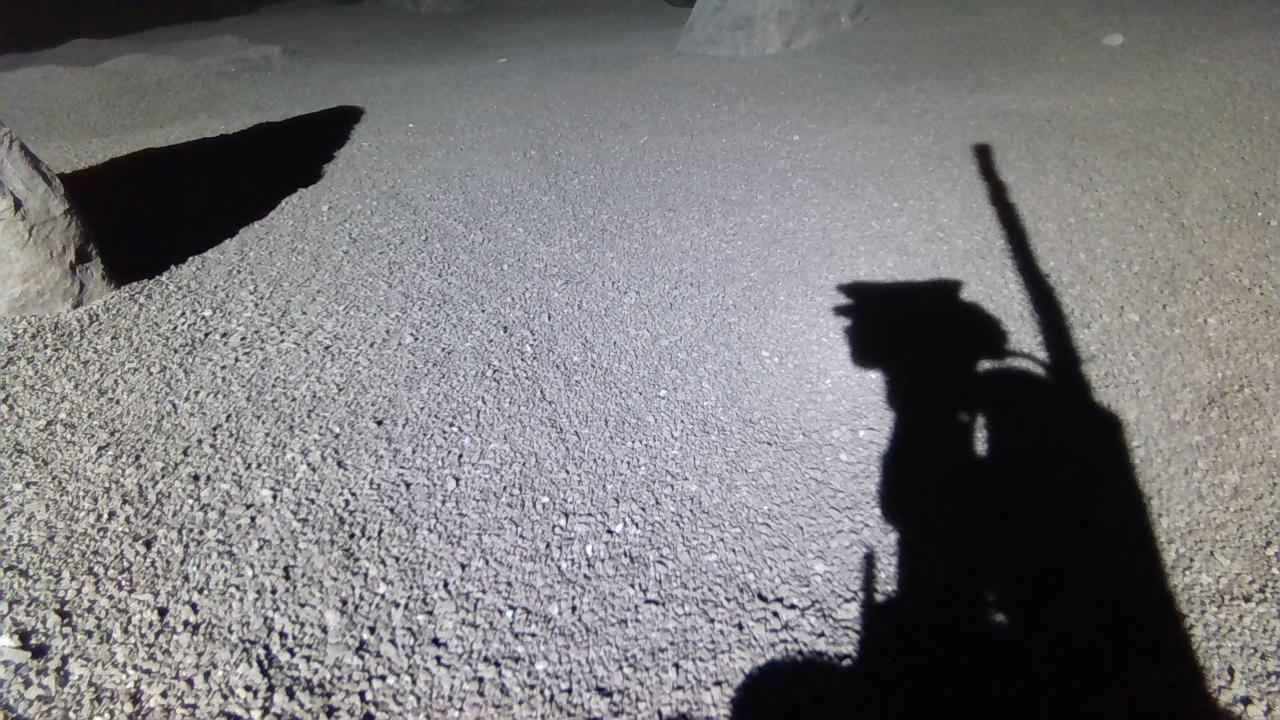rock: (0, 122, 110, 316), (677, 0, 866, 54)
